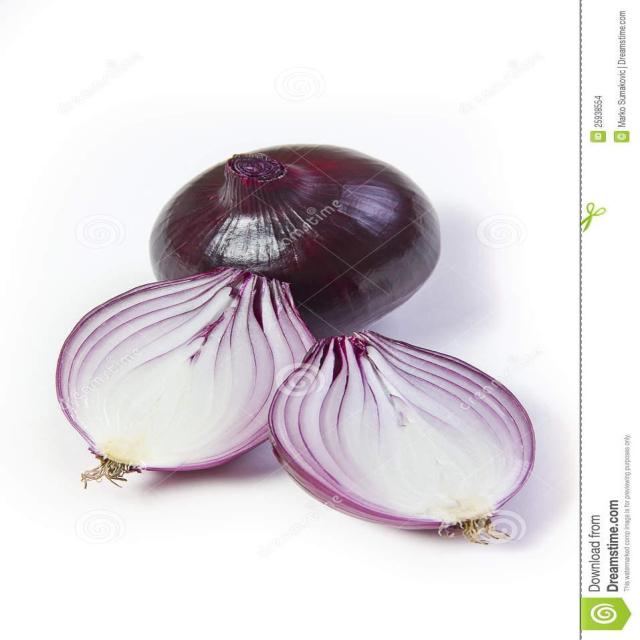Onion: (58, 266, 316, 488), (151, 144, 442, 338), (270, 332, 533, 546)
